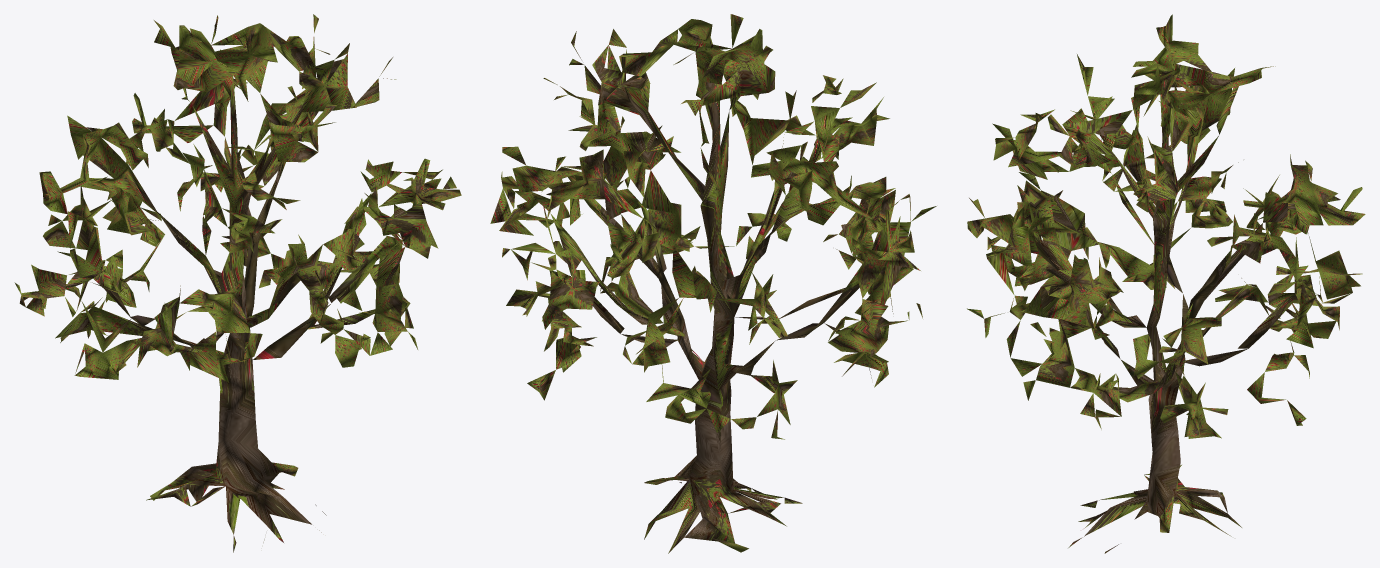
File: apple-lo.glb
3 views of the same model, side by side, from view 1: azimuth 30°, elevation 25°; view 2: azimuth 150°, elevation 25°; view 3: azimuth 270°, elevation 25° (orthographic). The views are drawn at different scales.
Size of the model in its own units: 4.16 by 4.88 by 3.55.
Materials: 1 (1 with a texture image).
